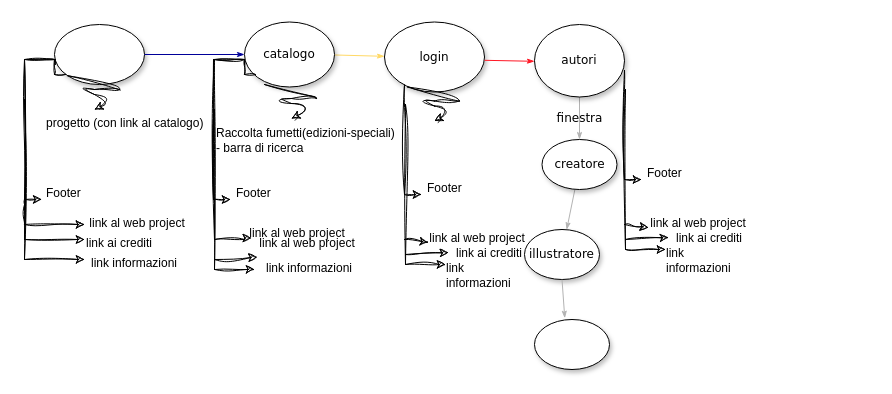
The diagram is 892 pixels wide and 394 high, and some of its shapes have lost their labels. The centre of each missing label's shape, as x and y in pixels:
"editore" goes at (x=573, y=345).
"Home-Page" goes at (x=100, y=56).
